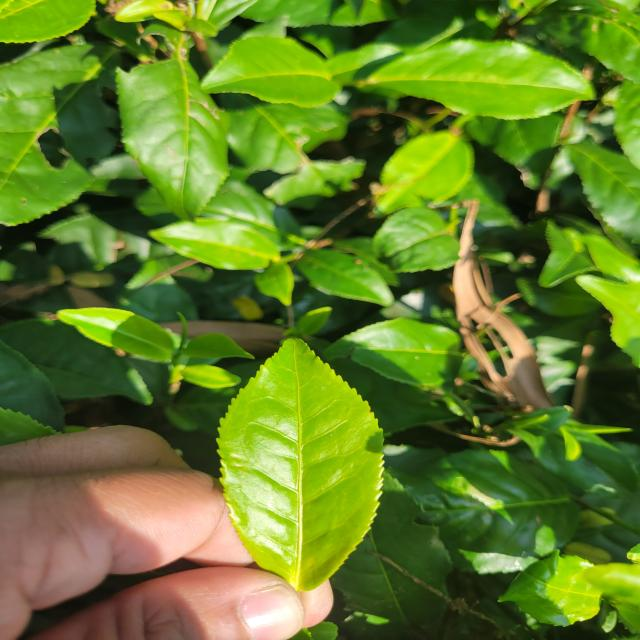Catagory A 1-2 days: (200, 326, 390, 612)
